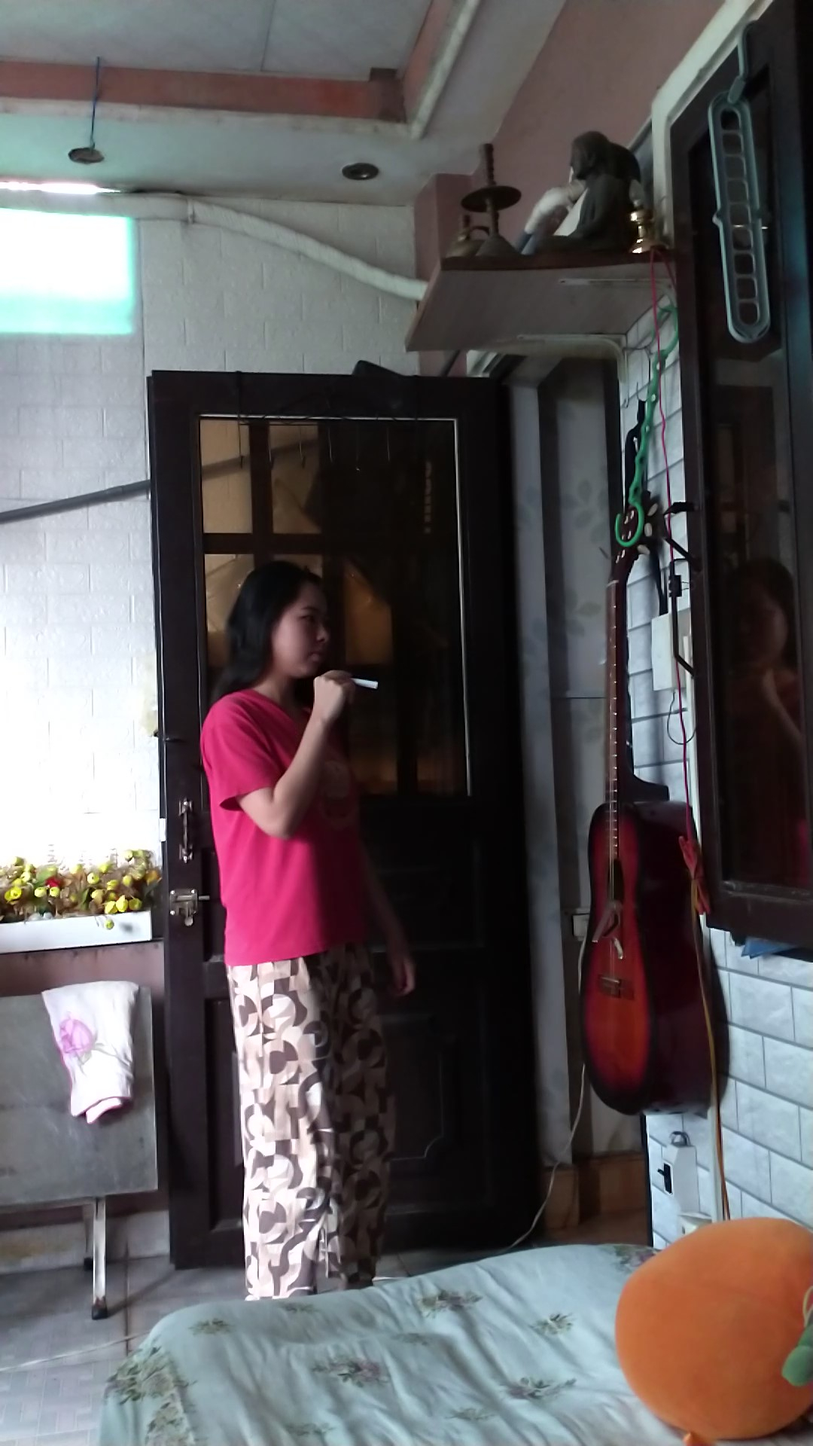cigarette: (352, 673, 384, 694)
person: (200, 544, 419, 1313)
